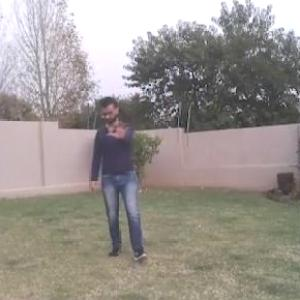follow_hand: (105, 112, 136, 138)
